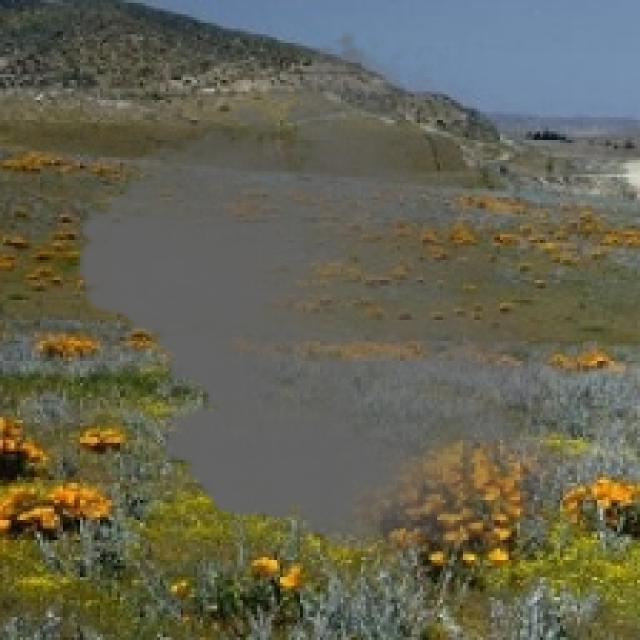Smoke: (57, 31, 606, 563)
